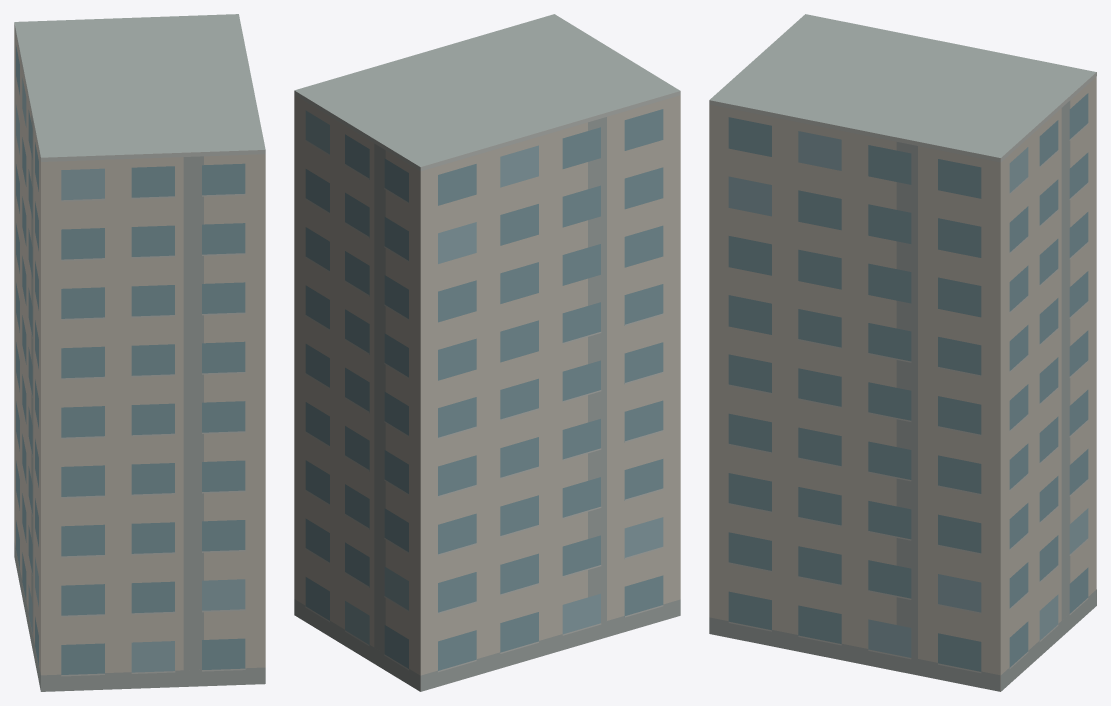
The model's file is residential-b995c974-8bf6-4ce1-bd6f-caf9d94847fa.glb.
3 renders of one model, left to right at view 1: azimuth 30°, elevation 25°; view 2: azimuth 150°, elevation 25°; view 3: azimuth 270°, elevation 25°, orthographic.
Parts seen in each view (by area): view 1: residential-b995c974-8bf6-4ce1-bd6f-caf9d94847fa.tmp; view 2: residential-b995c974-8bf6-4ce1-bd6f-caf9d94847fa.tmp; view 3: residential-b995c974-8bf6-4ce1-bd6f-caf9d94847fa.tmp.
Boxes of the visible parts, x1,y1,x2,y2 form: residential-b995c974-8bf6-4ce1-bd6f-caf9d94847fa.tmp: (14,14,265,691); residential-b995c974-8bf6-4ce1-bd6f-caf9d94847fa.tmp: (294,14,680,691); residential-b995c974-8bf6-4ce1-bd6f-caf9d94847fa.tmp: (709,14,1096,691).
Bounding box in the file's own units: 17.39 × 30 × 19.75.
